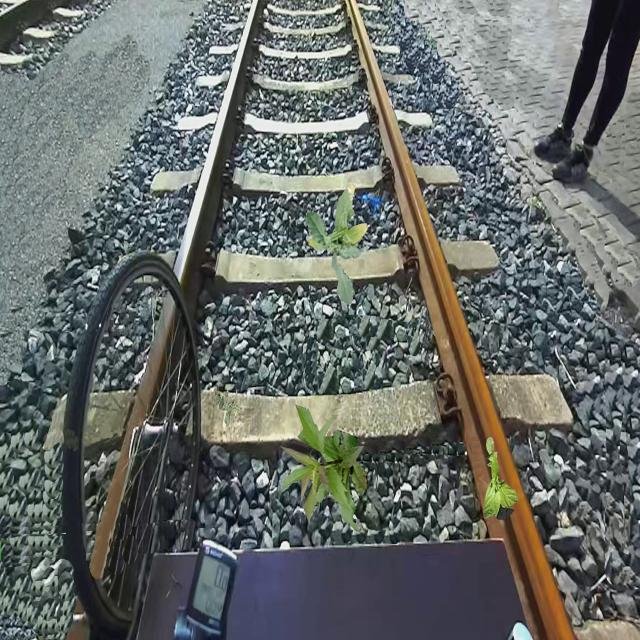Plant: (279, 404, 368, 534), (306, 181, 368, 306), (483, 437, 518, 520), (213, 386, 240, 427)
